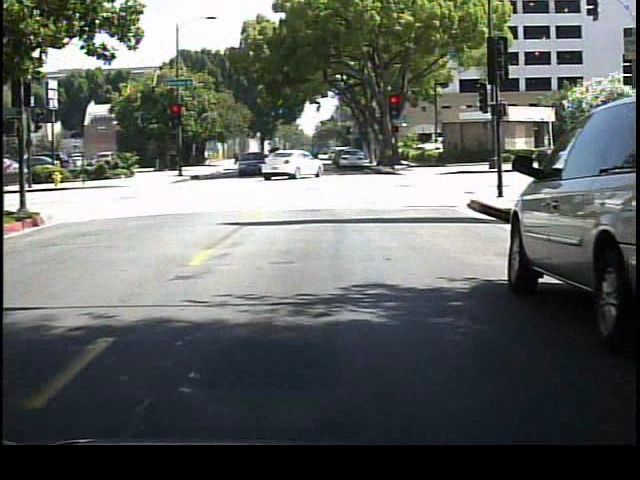person: (305, 142, 322, 177)
